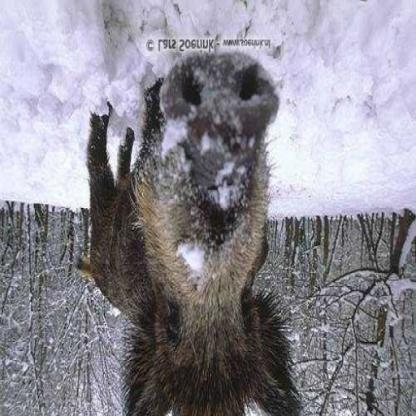boar: (65, 45, 329, 416)
